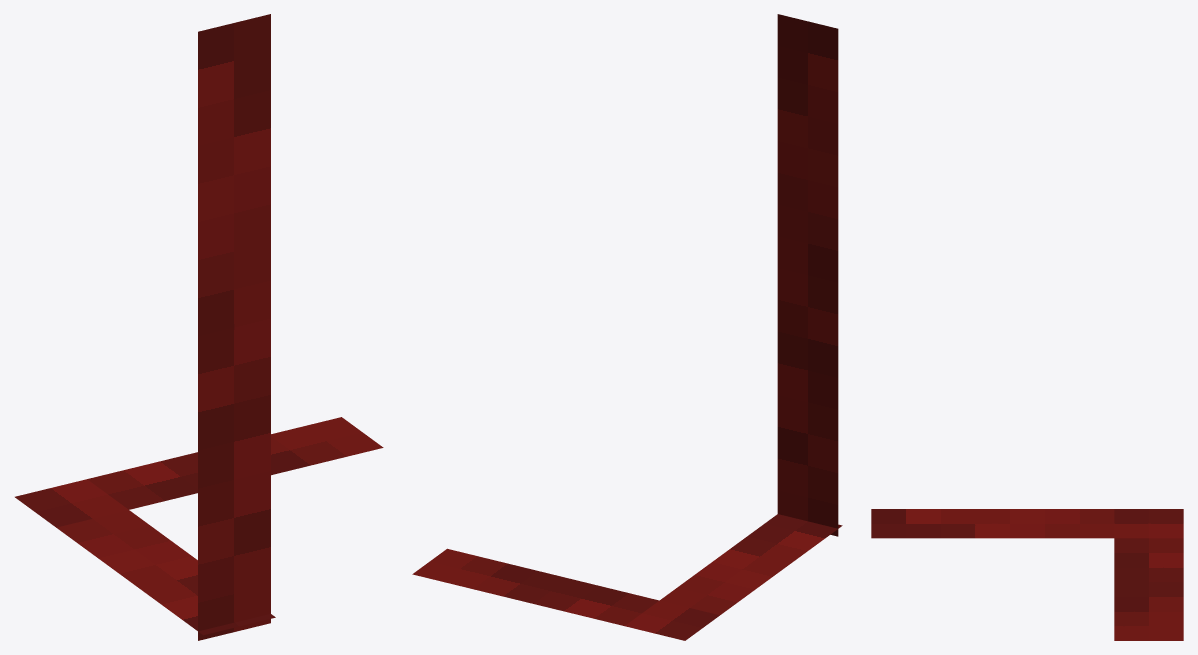
Rendered from dust_1020.gltf.
3 renders of one model, left to right at view 1: azimuth 30°, elevation 25°; view 2: azimuth 150°, elevation 25°; view 3: azimuth 270°, elevation 25°, orthographic. The views are drawn at different scales.
Parts seen in each view (by area): view 1: dust_1020; view 2: dust_1020; view 3: dust_1020.
Part boxes in pixels (bbox=[...]): dust_1020: bbox=[15, 14, 383, 640]; dust_1020: bbox=[412, 14, 842, 640]; dust_1020: bbox=[871, 509, 1183, 640].
Size of the model in its own units: 0.5625 by 1 by 0.5625.
1 material, 1 textured.
